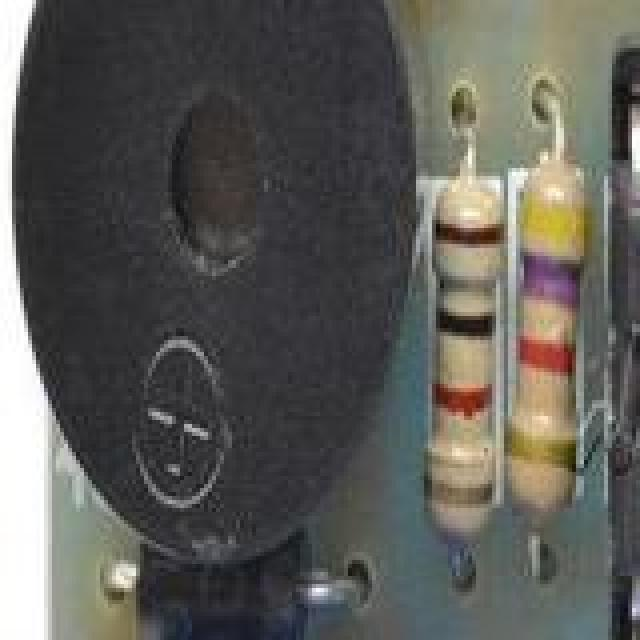IC: (608, 72, 640, 600)
buzzer: (16, 0, 424, 532)
diode: (104, 536, 332, 640)
resistor: (516, 60, 578, 588), (432, 96, 490, 560)
